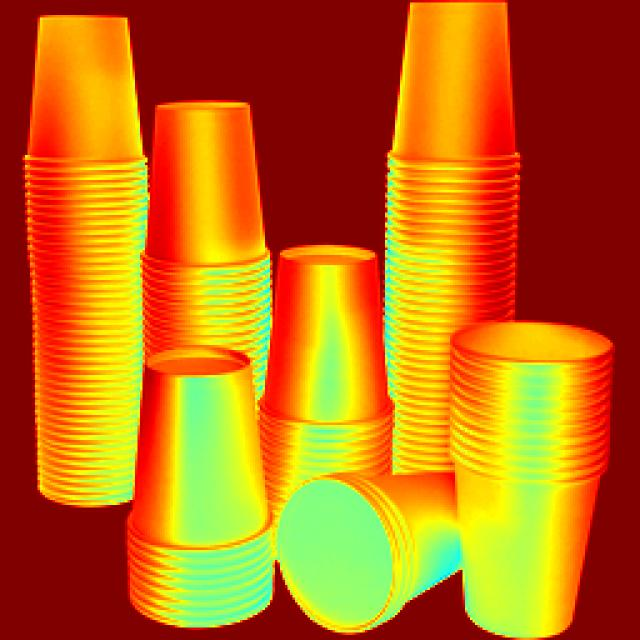Paper Cups: (446, 354, 620, 614), (139, 348, 281, 556), (384, 0, 548, 158), (147, 98, 277, 280), (286, 468, 424, 618), (16, 18, 156, 158), (280, 245, 390, 401)
